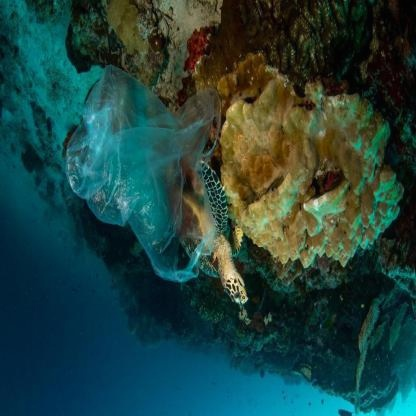pbag: (56, 55, 224, 292)
